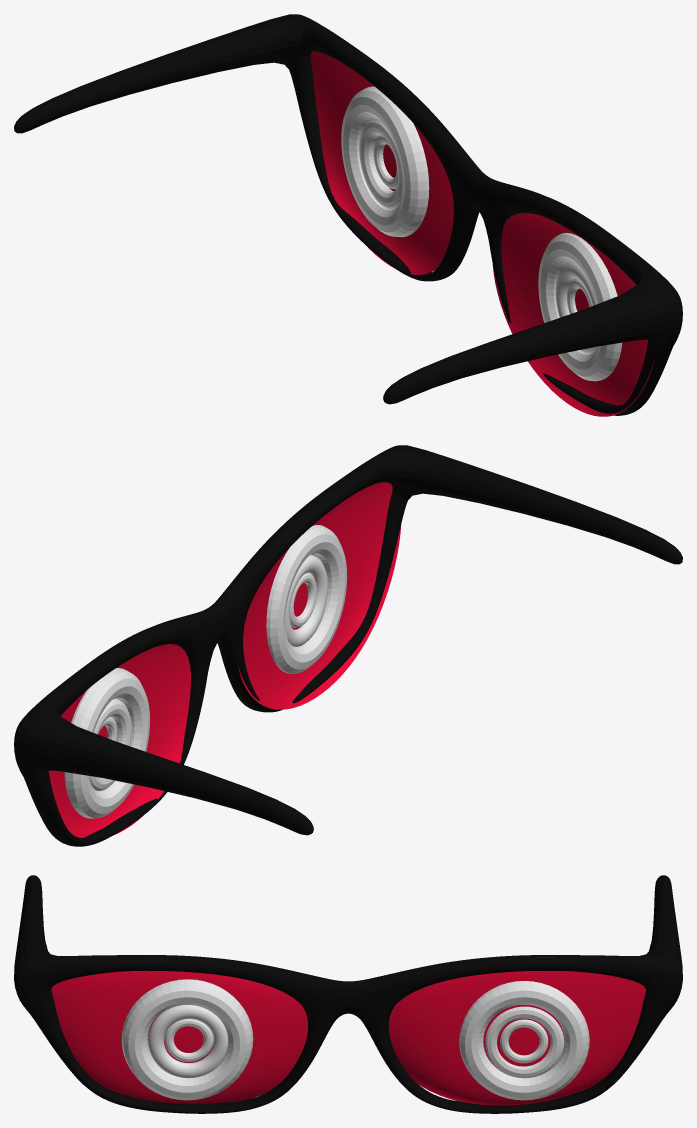
Rendered from XRayGlasses.fbx.
3 renders of one model, top to bottom at view 1: azimuth 30°, elevation 25°; view 2: azimuth 150°, elevation 25°; view 3: azimuth 270°, elevation 25°, orthographic. The views are drawn at different scales.
Parts seen in each view (by area): view 1: Cube, Glass.001, Glass, Torus.001, Torus.004, Torus, Torus.005, Torus.002; view 2: Cube, Glass.001, Glass, Torus.004, Torus.001, Torus.005, Torus, Torus.003; view 3: Cube, Glass, Glass.001, Torus.004, Torus.001, Torus.005, Torus, Torus.003, Torus.002.
Boxes of the visible parts, x1,y1,x2,y2 form: Cube: (14, 14, 682, 415); Glass.001: (492, 213, 654, 416); Glass: (310, 51, 453, 274); Torus.001: (341, 86, 429, 237); Torus.004: (538, 232, 622, 381); Torus: (359, 117, 402, 209); Torus.005: (555, 261, 597, 353); Torus.002: (373, 135, 397, 189); Cube: (14, 445, 682, 846); Glass.001: (238, 482, 401, 709); Glass: (48, 644, 190, 837); Torus.004: (266, 525, 347, 673); Torus.001: (64, 668, 149, 818); Torus.005: (285, 554, 328, 646); Torus: (89, 698, 131, 790); Torus.003: (289, 573, 316, 627); Cube: (14, 875, 682, 1113); Glass: (389, 957, 645, 1105); Glass.001: (51, 970, 307, 1103); Torus.004: (121, 979, 253, 1100); Torus.001: (459, 981, 589, 1100); Torus.005: (148, 1005, 227, 1078); Torus: (485, 1006, 564, 1078); Torus.003: (164, 1019, 213, 1062); Torus.002: (500, 1019, 548, 1063).
Size of the model in its own units: 205 by 119 by 457.
